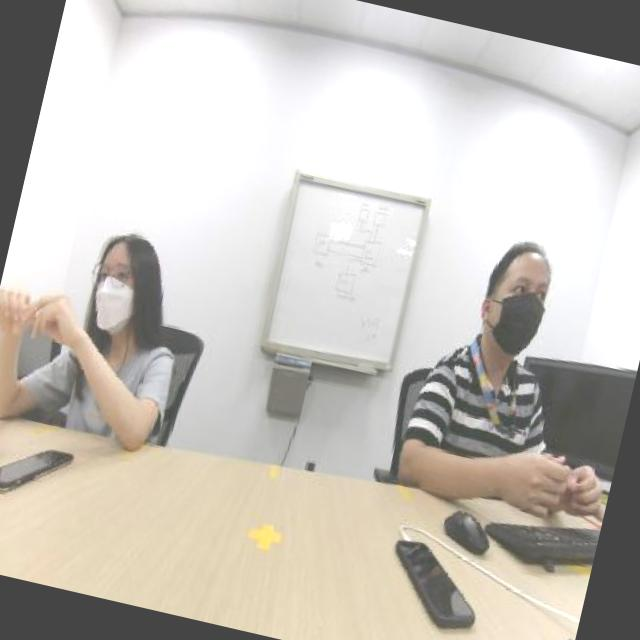Person: (9, 84, 212, 429), (418, 185, 600, 518)
